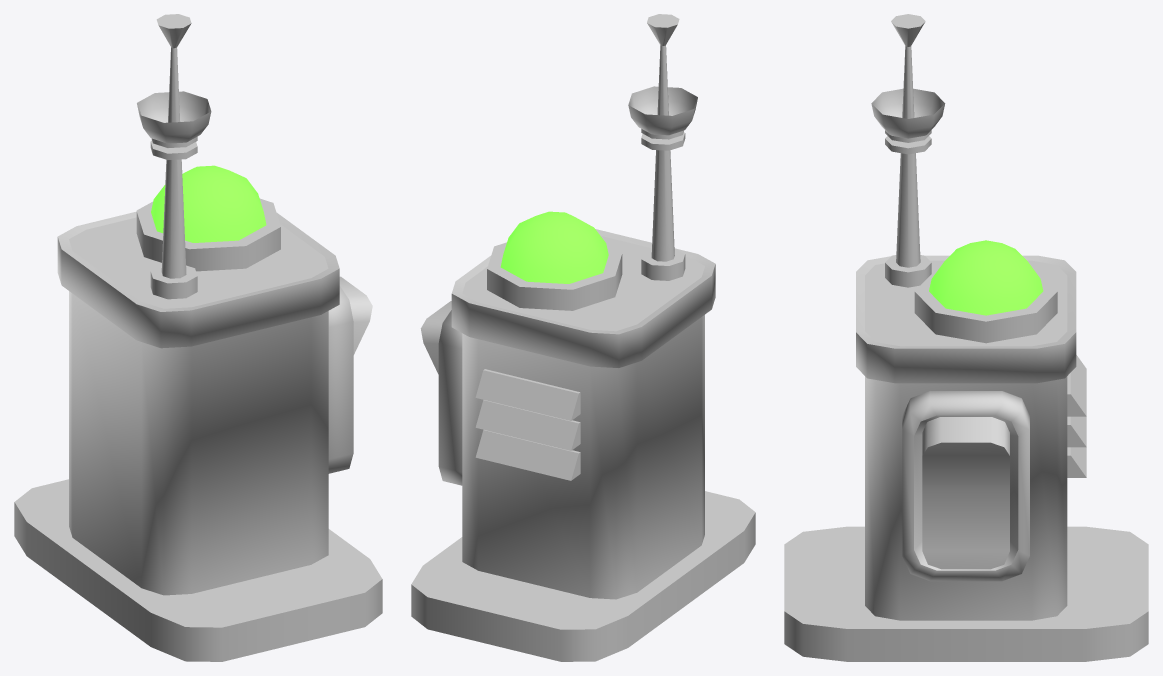
File: ShortSwitch.glb
3 renders of one model, left to right at view 1: azimuth 30°, elevation 25°; view 2: azimuth 150°, elevation 25°; view 3: azimuth 270°, elevation 25°, orthographic. The views are drawn at different scales.
Parts seen in each view (by area): view 1: ShortSwitchBase, ShortLightBulb, ClickHandle; view 2: ShortSwitchBase, ShortLightBulb, ClickHandle; view 3: ShortSwitchBase, ClickHandle, ShortLightBulb.
Boxes of the visible parts, x1=… form: ShortSwitchBase: x1=14, y1=14, x2=382, y2=661; ShortLightBulb: x1=151, y1=165, x2=266, y2=242; ClickHandle: x1=339, y1=276, x2=372, y2=354; ShortSwitchBase: x1=411, y1=14, x2=755, y2=661; ShortLightBulb: x1=500, y1=211, x2=608, y2=283; ClickHandle: x1=420, y1=301, x2=451, y2=374; ShortSwitchBase: x1=784, y1=14, x2=1148, y2=661; ClickHandle: x1=922, y1=417, x2=1009, y2=569; ShortLightBulb: x1=929, y1=240, x2=1043, y2=315.
Size of the model in its own units: 1.73 by 3.68 by 2.16.
